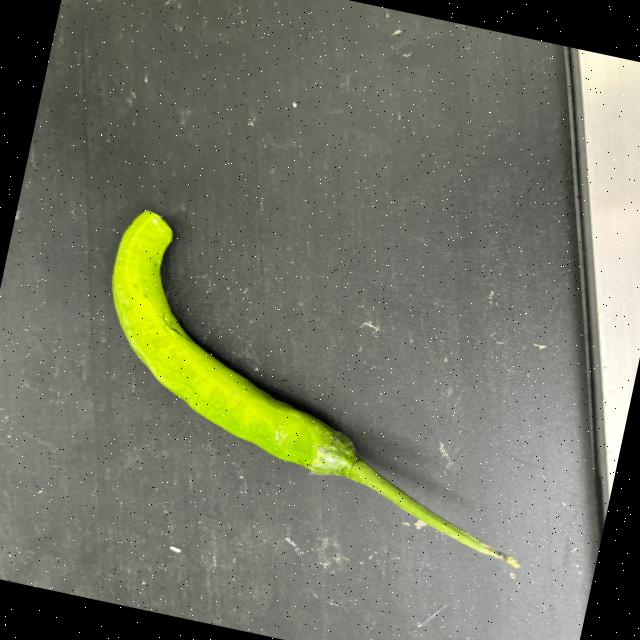chili: (111, 206, 359, 476)
